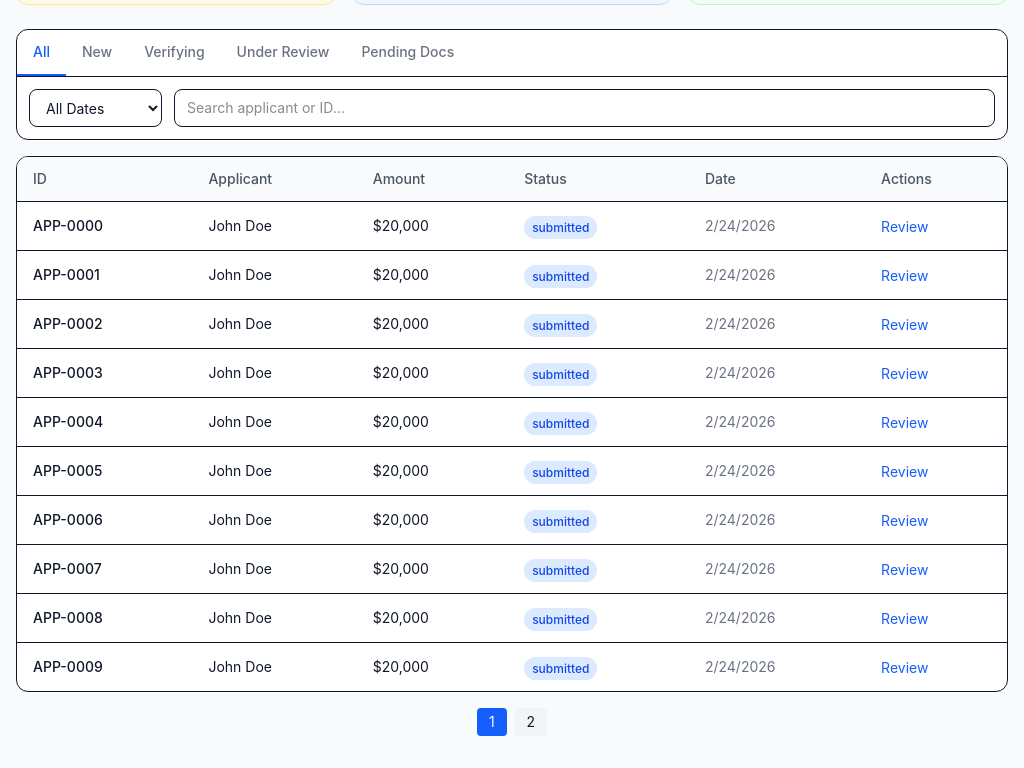
Test: LoanOfficerDashboard › renders pagination for many apps
(page scrolled)
Expected: the element with test id "pagination" is shown, [477,708,547,736]
Click the button "2" at (531, 722), box [515,708,547,736]
(page scrolled)
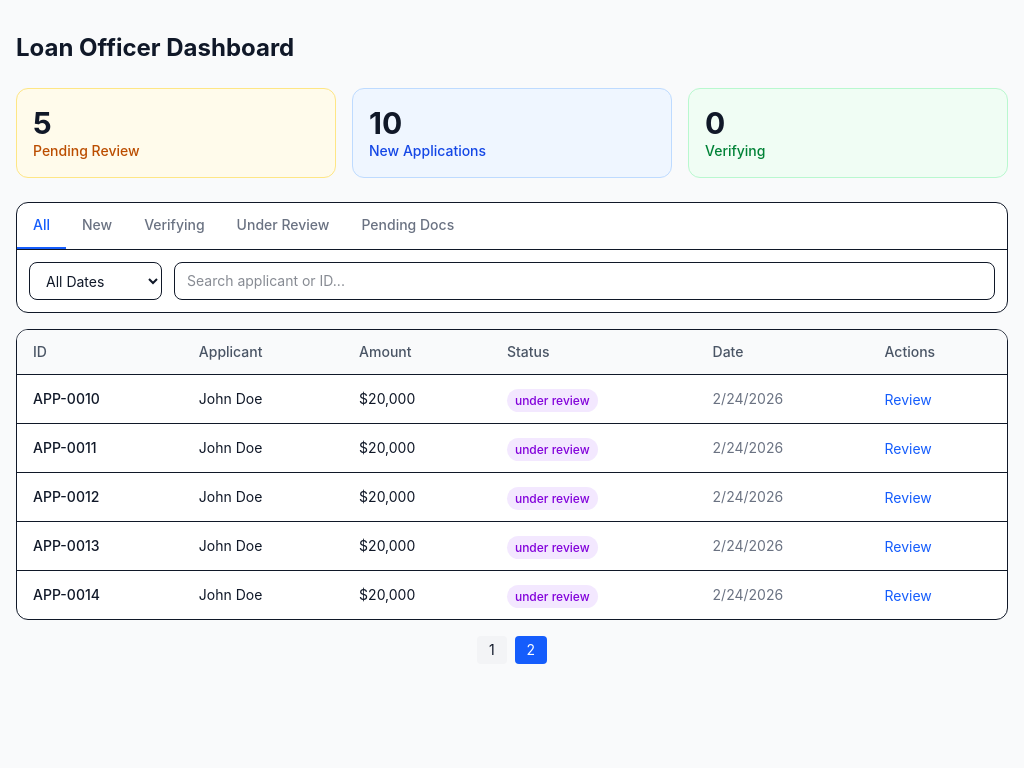
Result: the number of rows with test id "app-row" is 5 at [17,374,1007,424]; [17,424,1007,472]; [17,472,1007,522]; [17,522,1007,570]; [17,570,1007,619]
